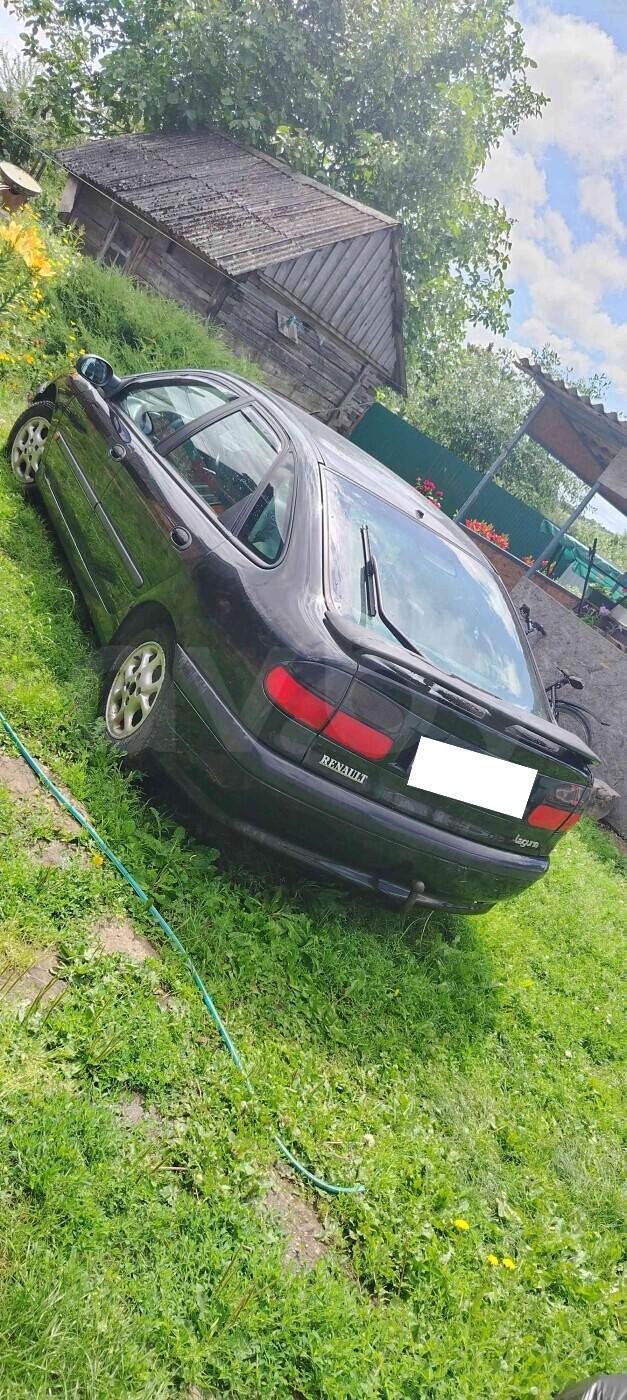Lahuna_1993-1999: (18, 350, 596, 942)
